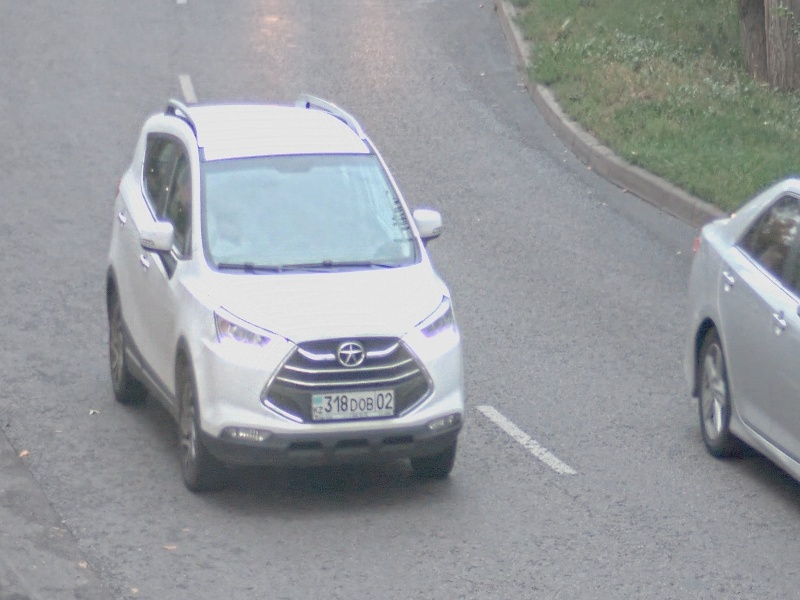plate: (311, 388, 395, 421)
